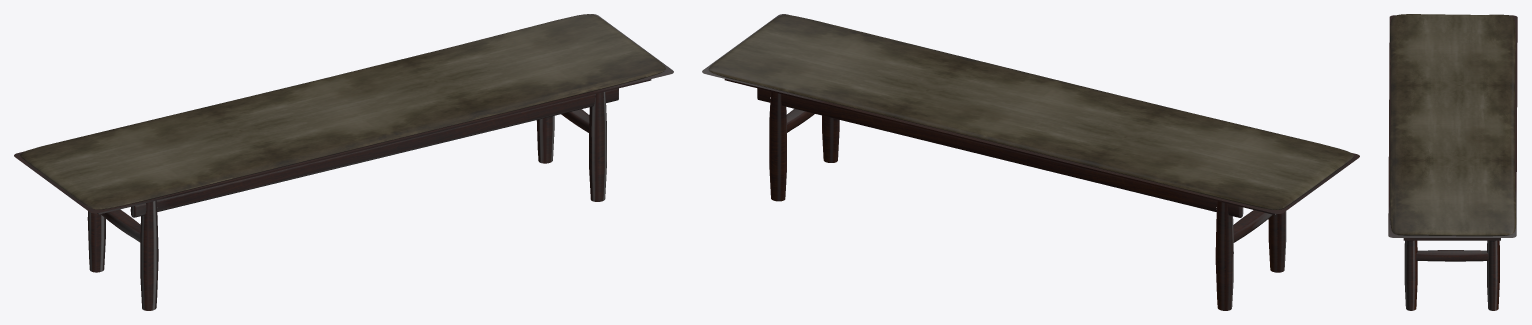
Rendered from sofa_ottoman_22a0fca4-540e-5555-abda-4dd21a29b550.glb.
3 views of the same model, side by side, from view 1: azimuth 30°, elevation 25°; view 2: azimuth 150°, elevation 25°; view 3: azimuth 270°, elevation 25° (orthographic). The views are drawn at different scales.
Visible parts, largest first — view 1: raw_model.obj; view 2: raw_model.obj; view 3: raw_model.obj.
Boxes of the visible parts, bbox=[...] form: raw_model.obj: bbox=[14, 14, 673, 310]; raw_model.obj: bbox=[702, 14, 1359, 310]; raw_model.obj: bbox=[1388, 14, 1517, 310].
Bounding box in the file's own units: 1.2 × 0.2494 × 0.2954.
Materials: 1 (1 with a texture image).
